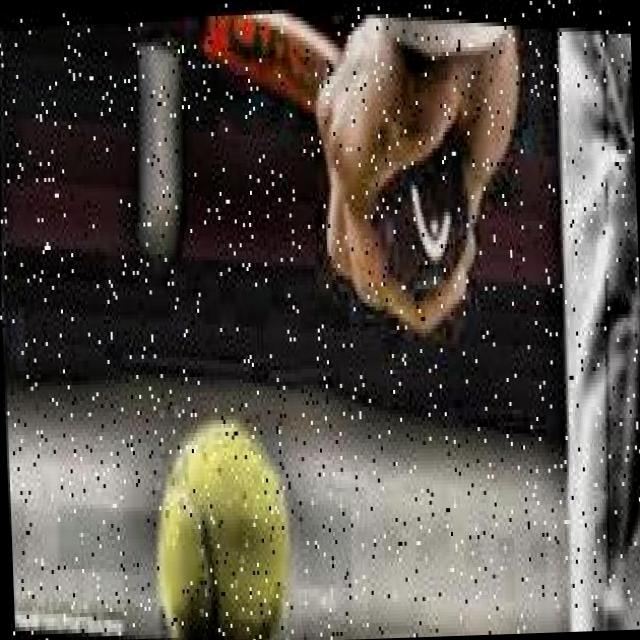Tennis Ball: (143, 393, 302, 640)
